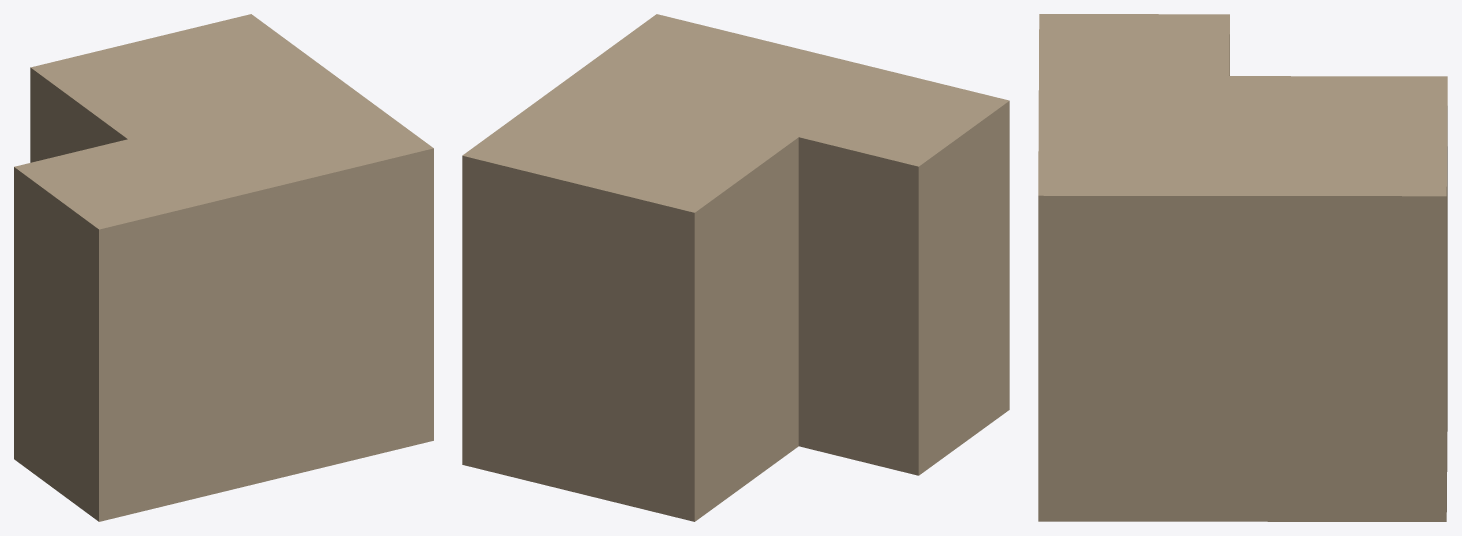
Rendered from bld_106796582.dae.
3 renders of one model, left to right at view 1: azimuth 30°, elevation 25°; view 2: azimuth 150°, elevation 25°; view 3: azimuth 270°, elevation 25°, orthographic. The views are drawn at different scales.
Parts seen in each view (by area): view 1: bld_106796582; view 2: bld_106796582; view 3: bld_106796582.
Boxes of the visible parts, box(x1,y1,x2,y2) form: bld_106796582: box(14, 14, 433, 521); bld_106796582: box(462, 14, 1009, 521); bld_106796582: box(1038, 14, 1447, 521).
Size of the model in its own units: 9.6 by 9.11 by 8.
